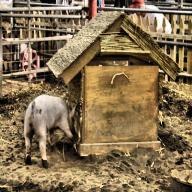boar: (24, 94, 79, 168)
